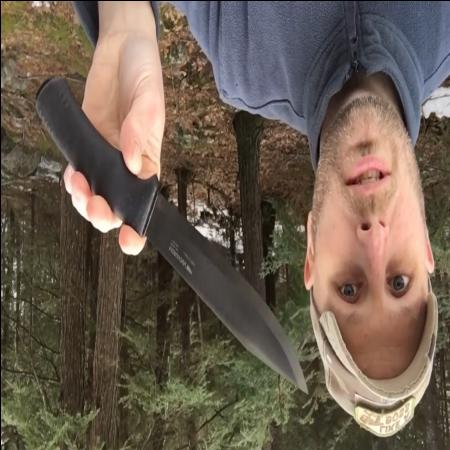long weapon: (101, 121, 311, 400)
